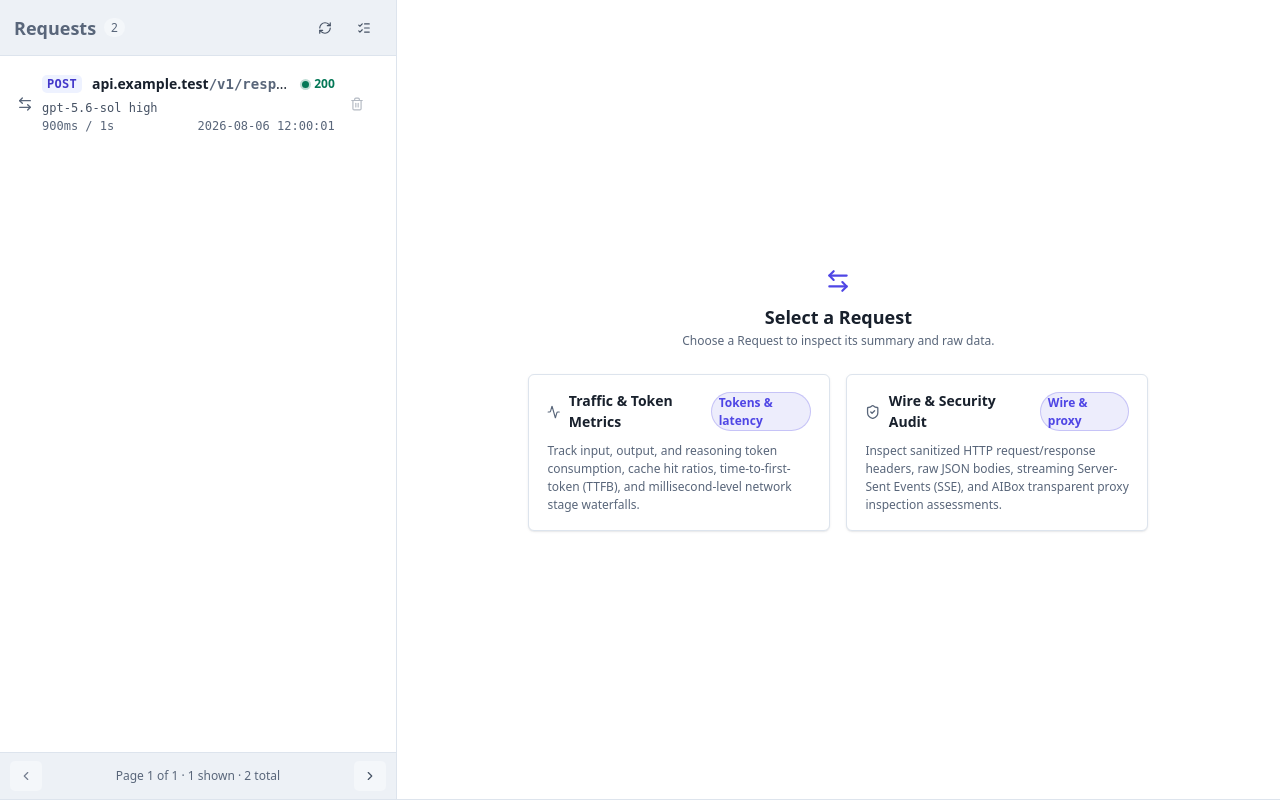
Requests page selection and deletion › preserves the selected count across request pages
Click the button named "Select Requests" at (364, 28), box [346,10,382,46]
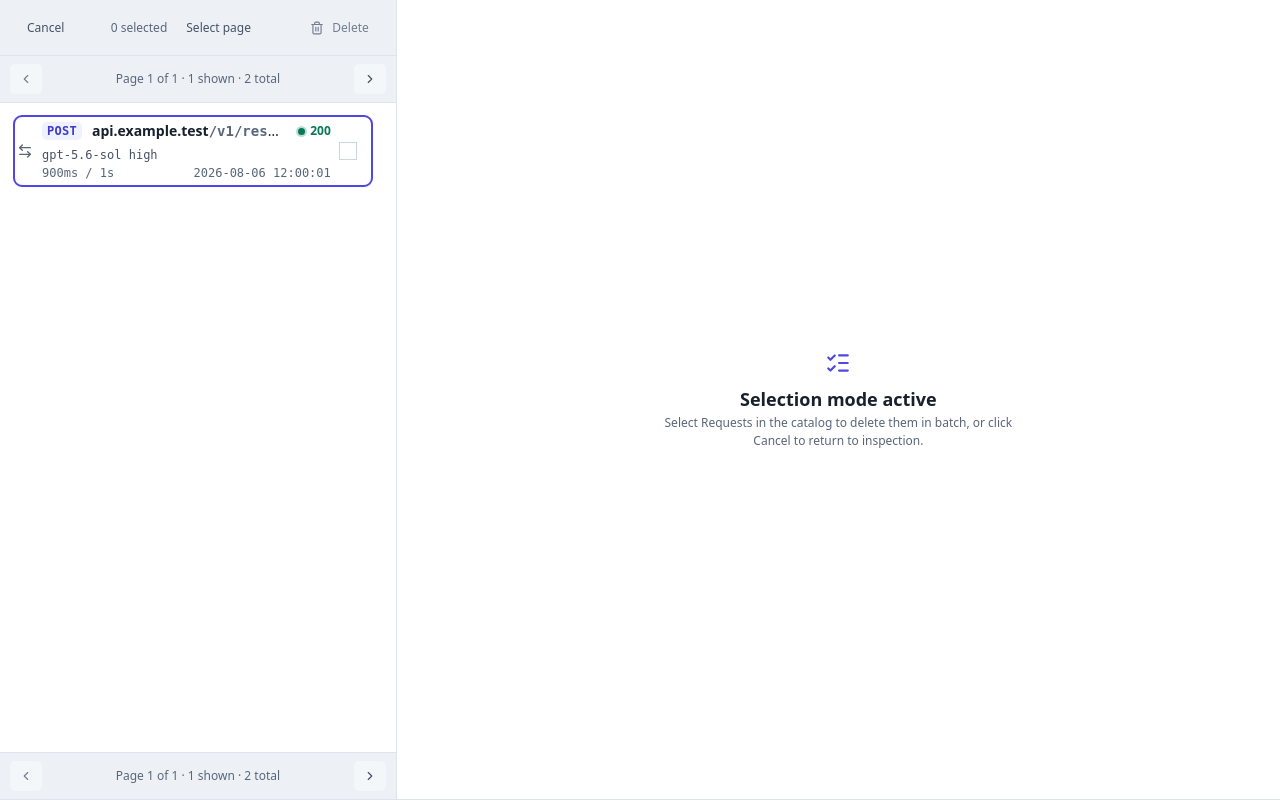
Click the button with aria-label "Select POST api.example.test/v1/responses" at (62, 131), box [17,119,369,183]
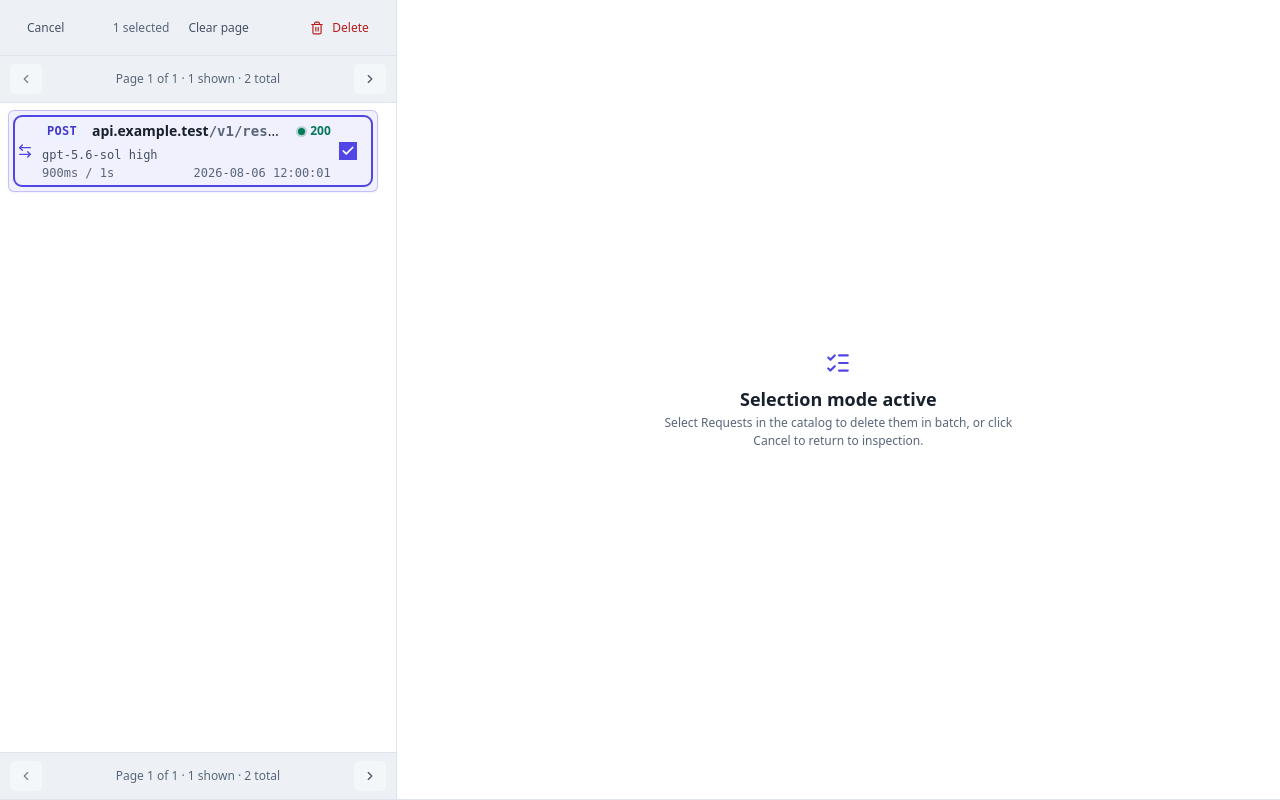
Click the button named "Next" below "selected" at (370, 79), box [354,64,386,94]
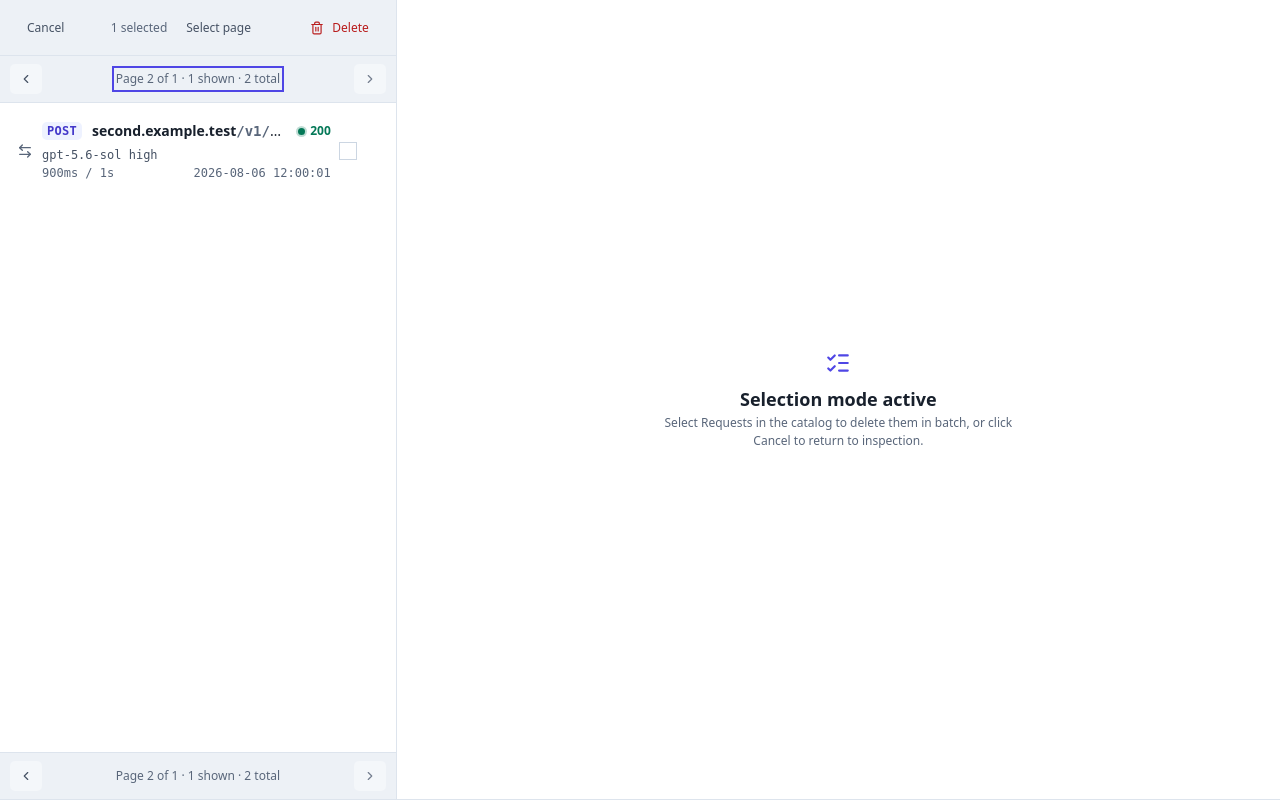
Expected: the text "1 selected" is shown, [111,19,167,36]
Expected: the button "Select page" is shown, [173,10,264,46]
